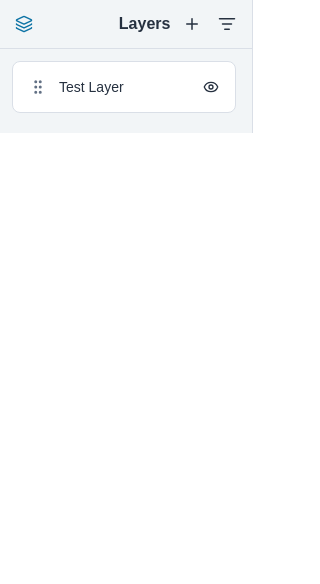
Layer Settings Button - Integration Tests › opens LayerSettingsWindow when clicking on a layer card
The width and height of the screenshot is (320, 584).
Click the button "Test Layer" at [124, 87], box [12,61,236,113]
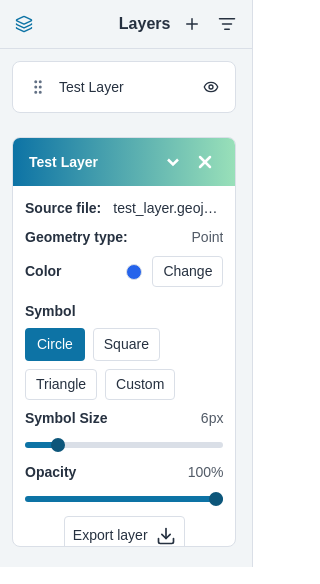
Expected: the heading "Test Layer" is shown, [29,152,98,172]
Expected: the text "Source file:" is shown, [25,198,101,219]
Expected: the text "Geometry type:" is shown, [25,227,128,248]
